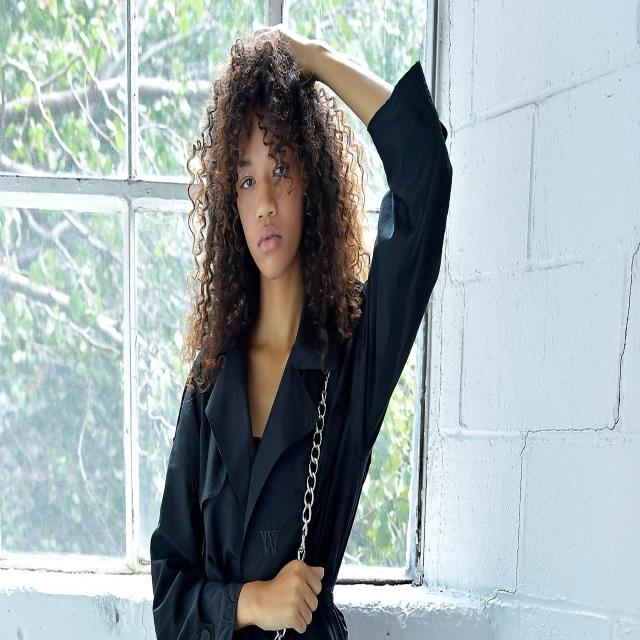mobile_phonerotation: (149, 25, 453, 637)
